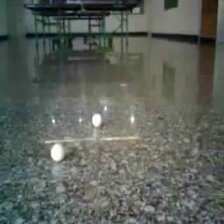w: (50, 142, 65, 162), (91, 112, 102, 128)
